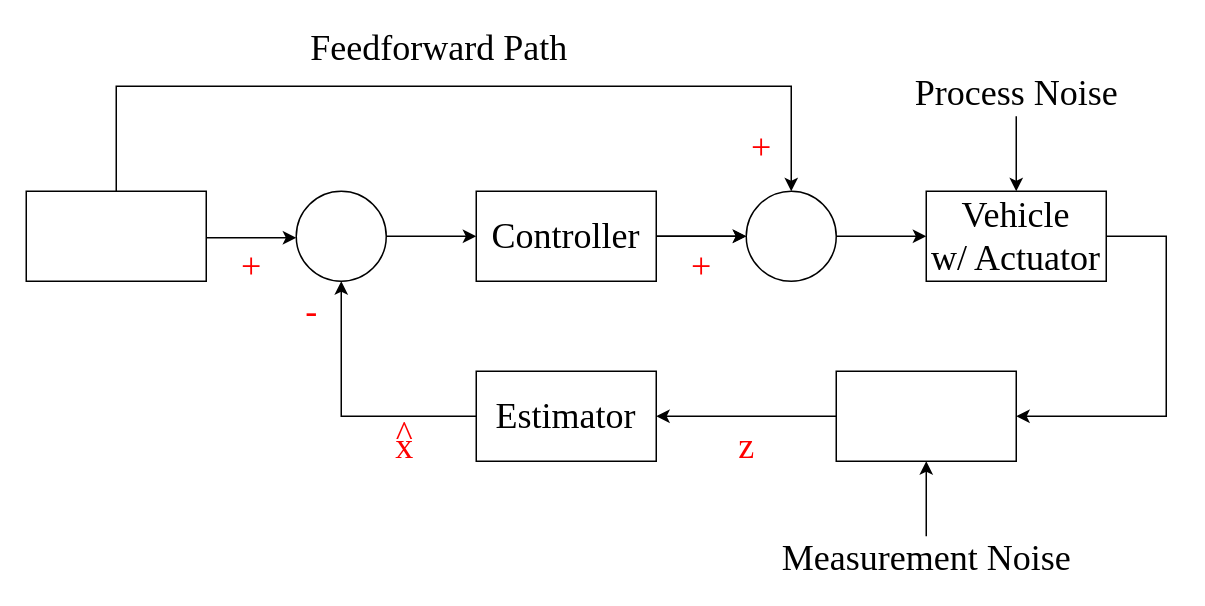
The diagram is 1205 pixels wide and 606 high, and some of its shapes have lost their labels. The centre of each missing label's shape, as x and y in pixels:
Guidance: [115,235]
Sensor: [925,415]
